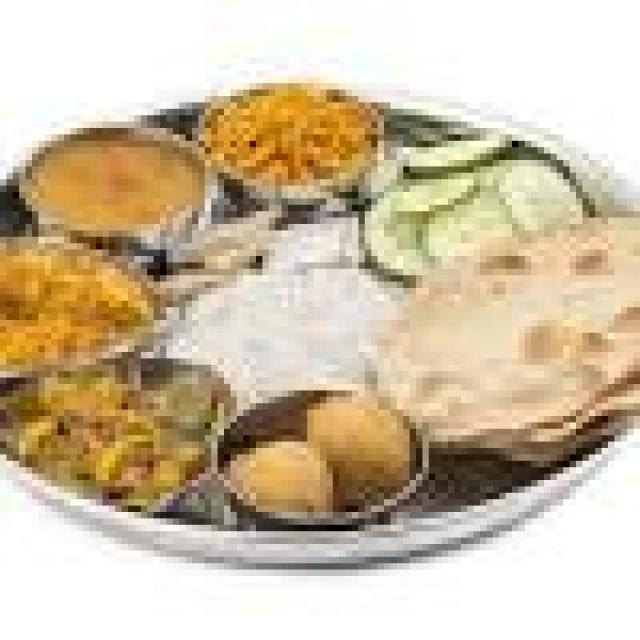dal: (12, 125, 200, 254)
roti: (200, 75, 388, 209)
veg-fry: (198, 74, 387, 207)
